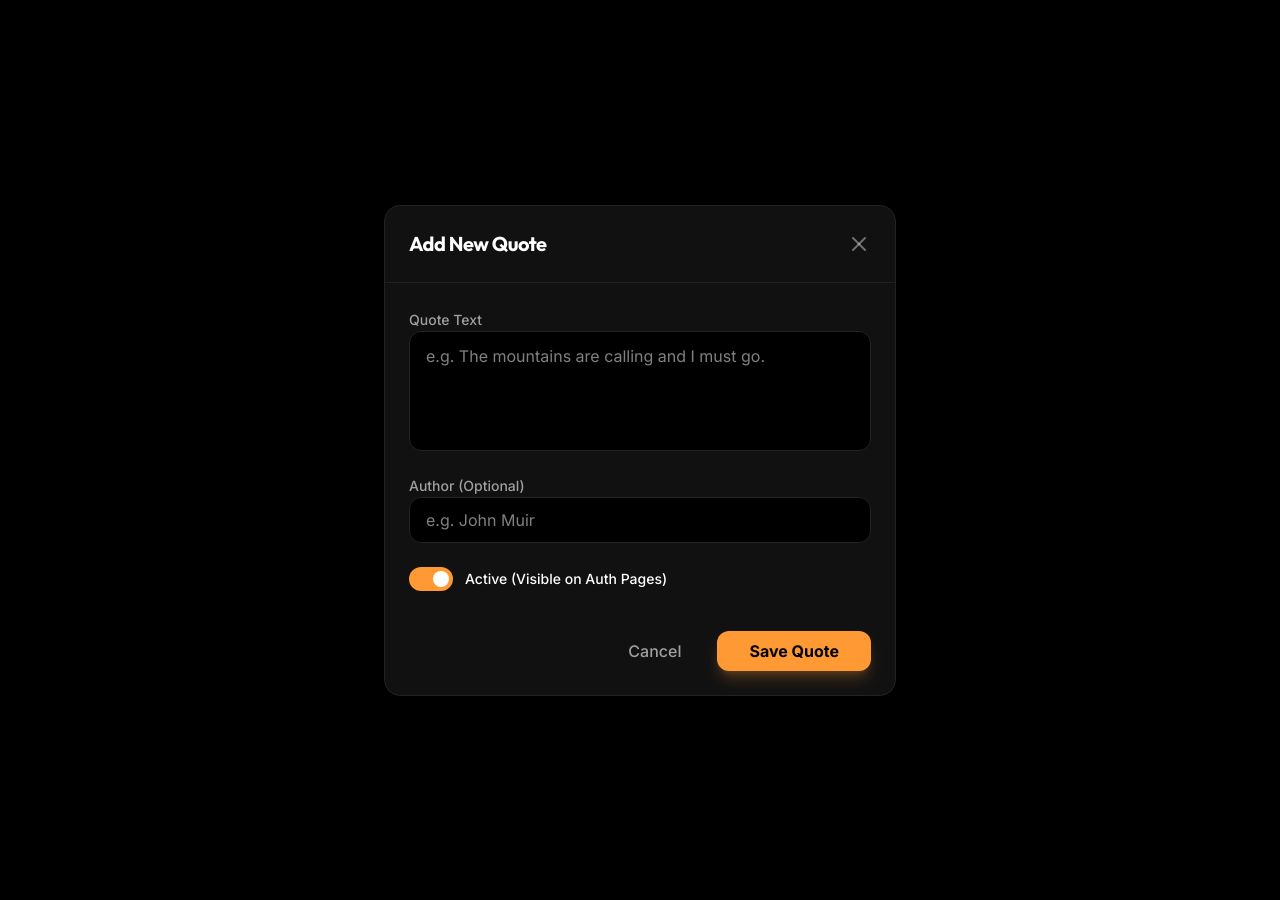
Test: QuoteForm › displays an error message if submission fails
Type "Test" into the text box labelled "Quote Text". click: (640, 390)
box: [409,330,871,450]
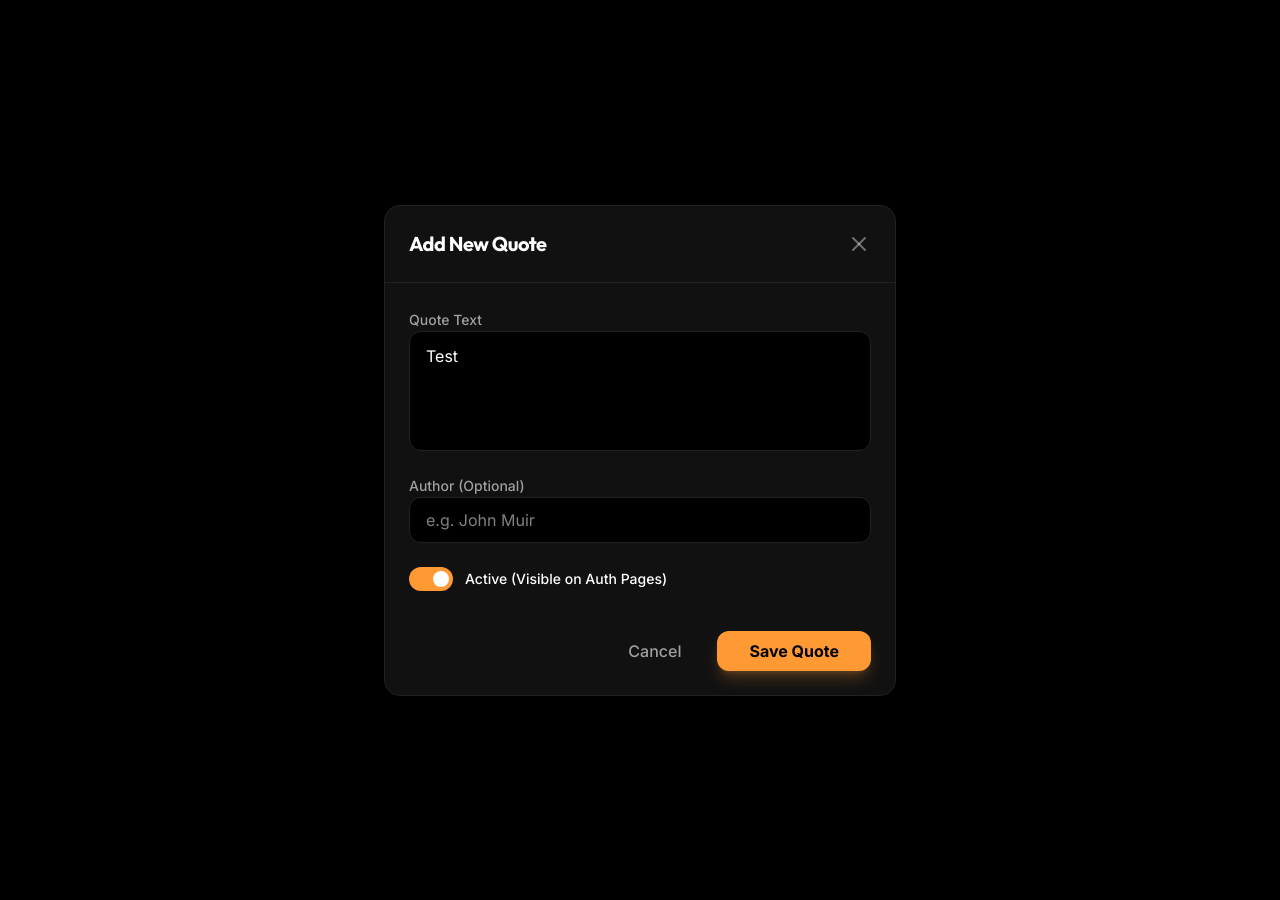
Click the button "Save Quote". click: (794, 650)
box: [717,630,871,670]
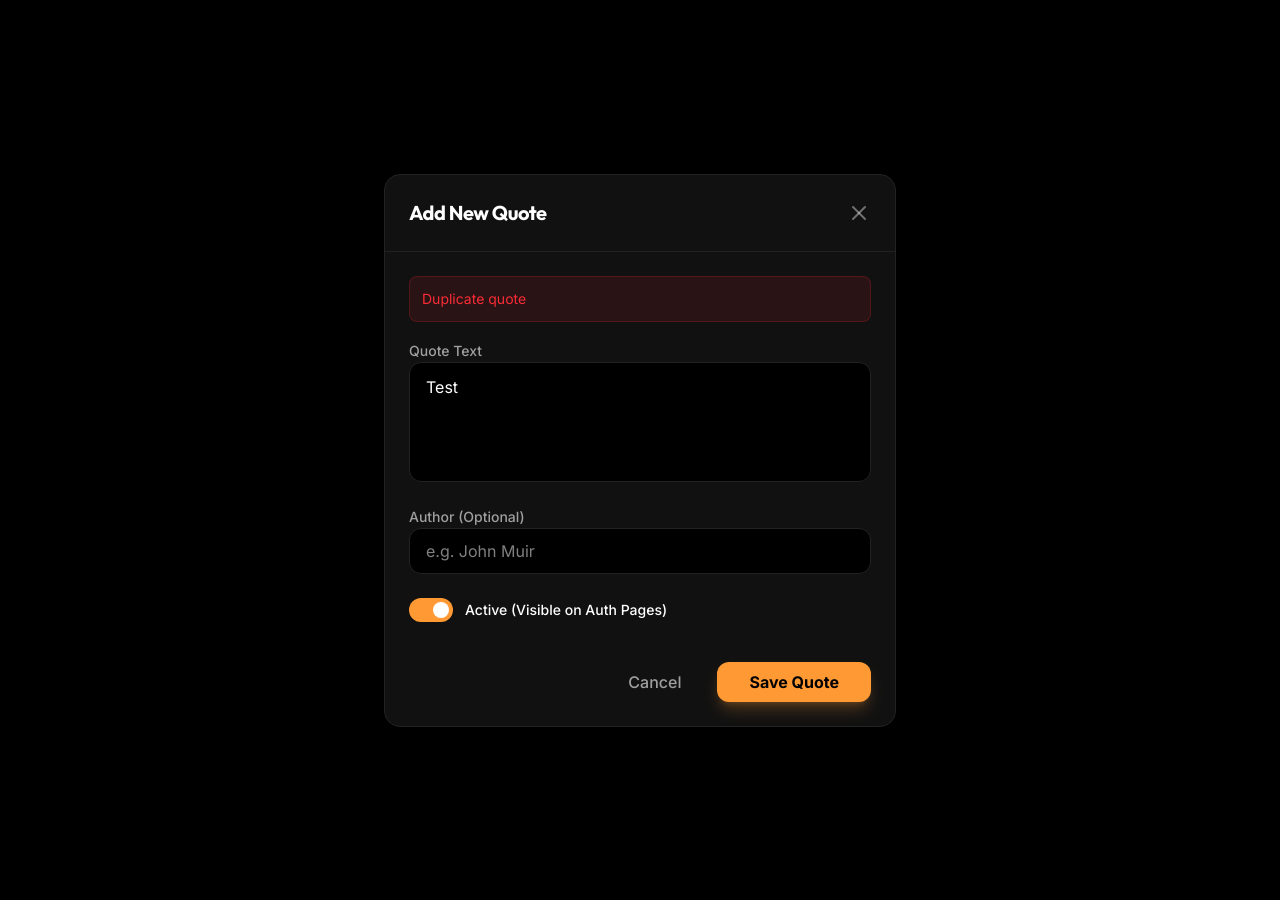
Check: the text "Duplicate quote" is shown, box [409,276,871,322]
